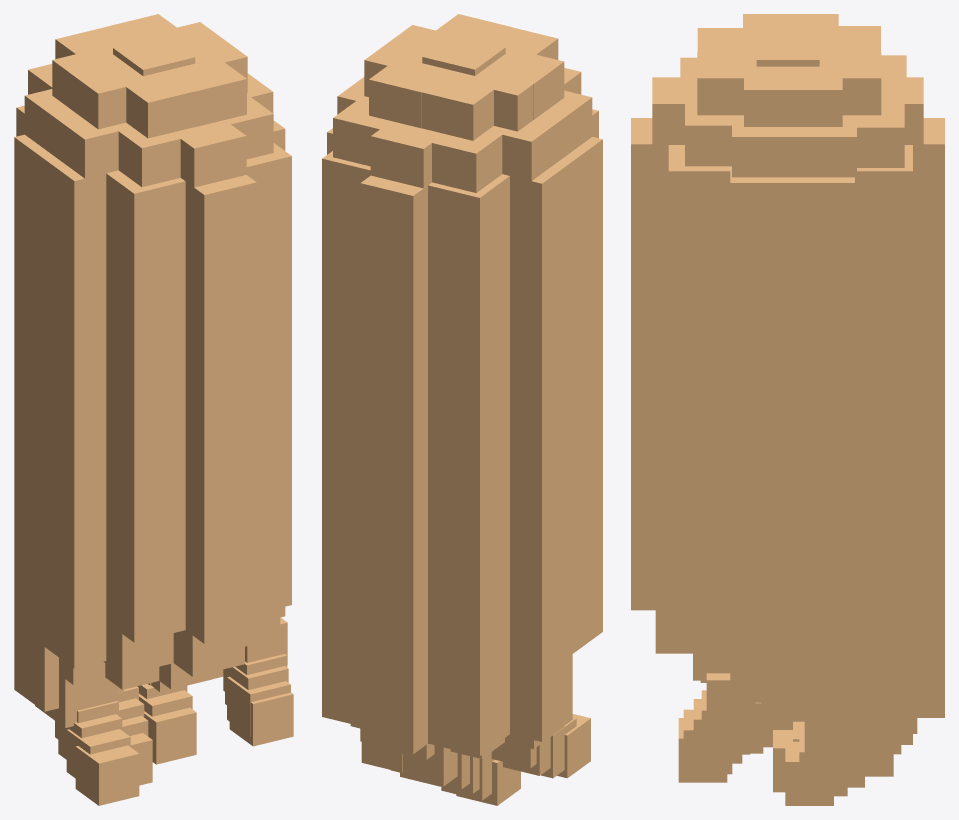
Rendered from brazo_Izq.obj.
The picture shows the model from 3 angles, left to right: view 1: azimuth 30°, elevation 25°; view 2: azimuth 150°, elevation 25°; view 3: azimuth 270°, elevation 25°; orthographic projection. The views are drawn at different scales.
Visible parts, largest first — view 1: Box1896; view 2: Box1896; view 3: Box1896.
Boxes of the visible parts, <box> form: Box1896: <box>14,14,293,805</box>; Box1896: <box>322,14,602,805</box>; Box1896: <box>631,14,944,805</box>.
Size of the model in its own units: 0.3984 by 1.3 by 0.4926.
